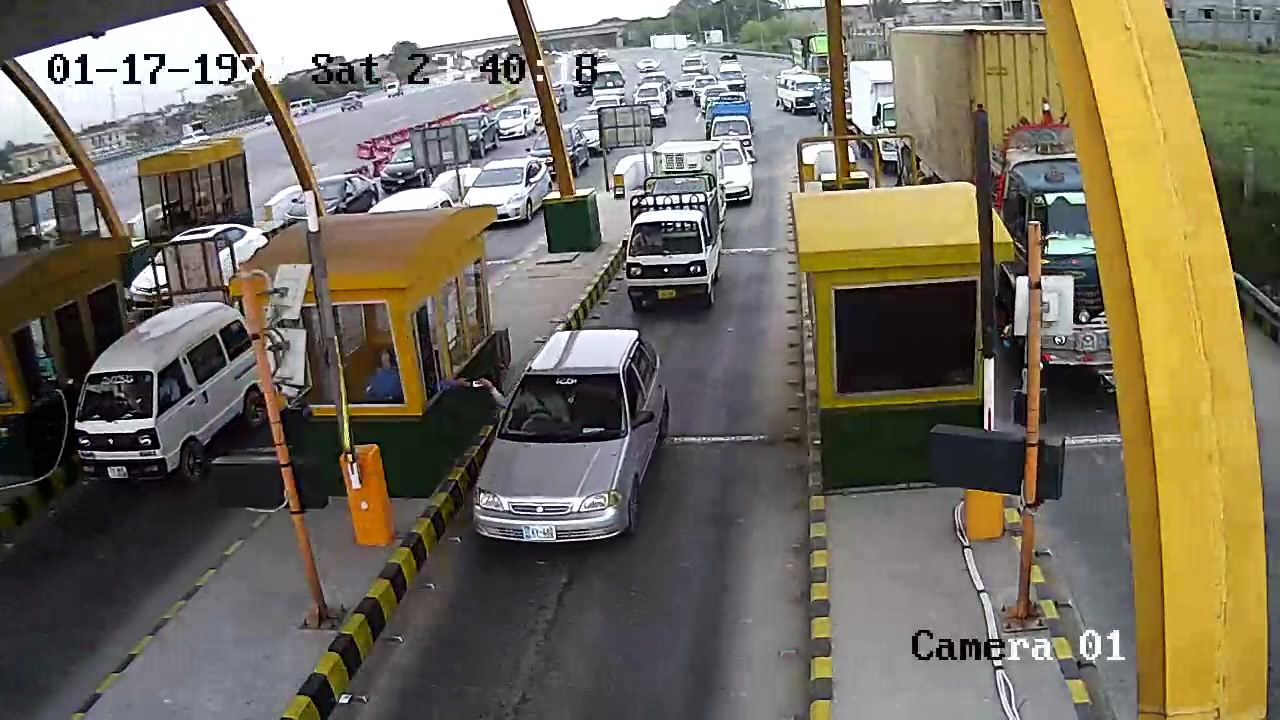F1: (460, 327, 685, 560)
